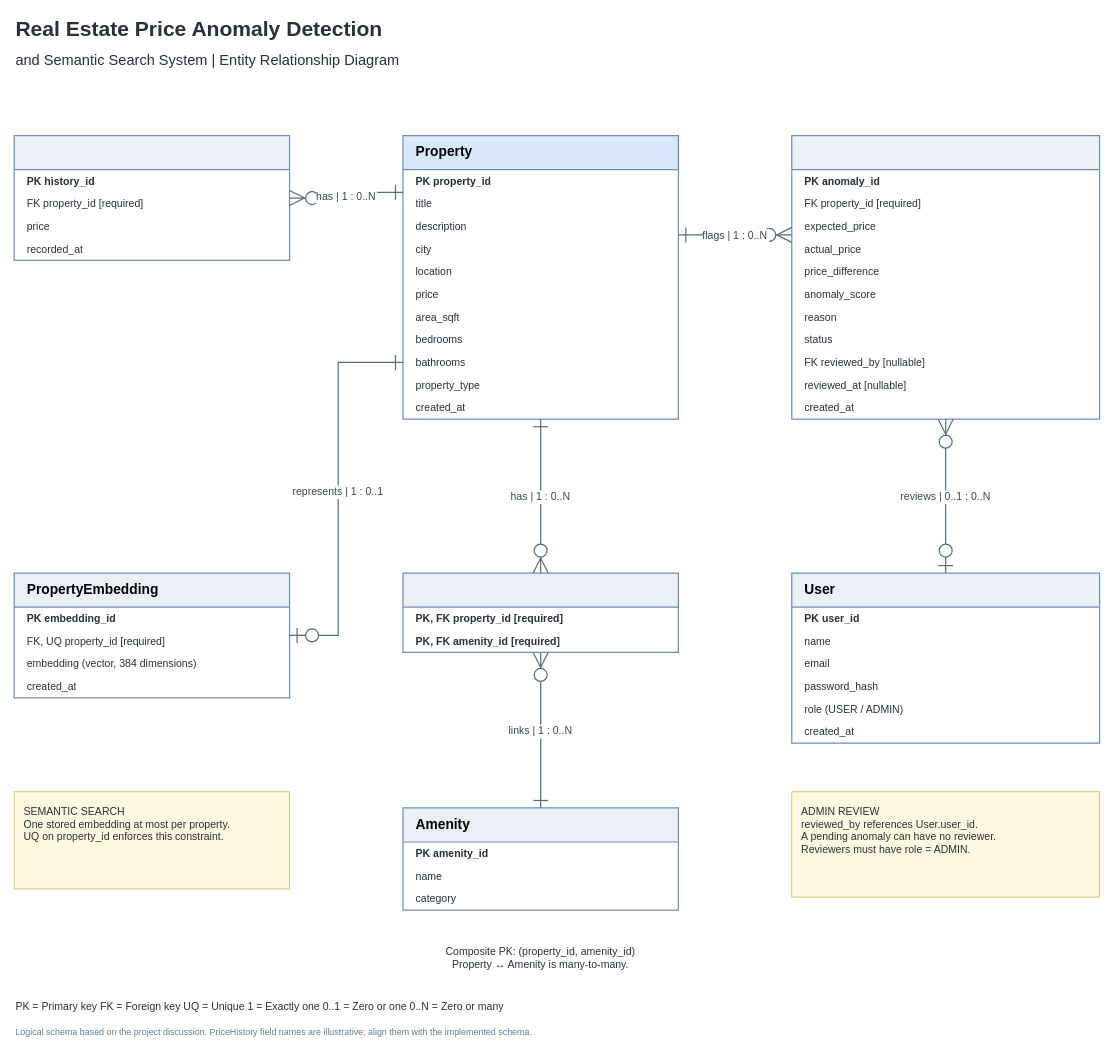
Some shapes in this 1115 by 1055 pixel diagram are drawn without their labels. The box of each missing label's shape, as (x1, y1, x2, y2) in pixels:
PriceHistory: (13, 135, 290, 261)
PropertyAmenity: (402, 572, 679, 653)
PropertyAnomaly: (791, 135, 1100, 419)
